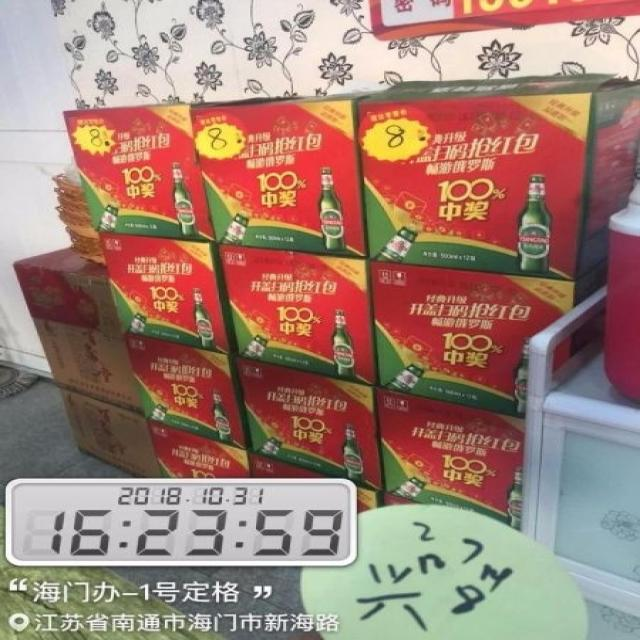box: (357, 74, 639, 278), (366, 260, 607, 416), (203, 90, 376, 257), (216, 243, 378, 384), (11, 244, 137, 416), (374, 389, 525, 527), (64, 104, 214, 241), (236, 353, 378, 490), (96, 232, 238, 355), (123, 339, 251, 449), (250, 450, 380, 513), (62, 395, 156, 479), (150, 418, 253, 481)
